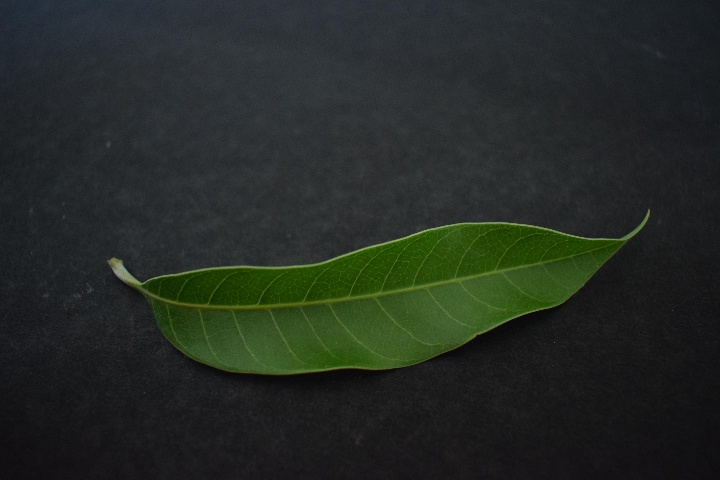healthy: (127, 210, 652, 379)
